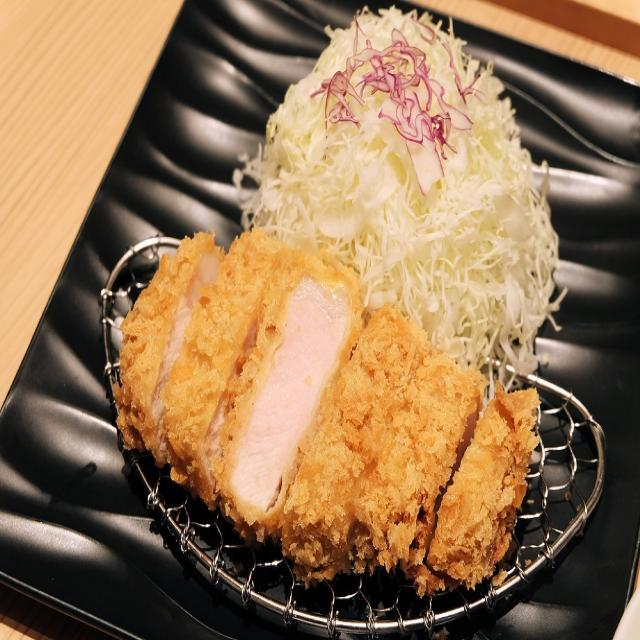cac loai rau cu: (249, 9, 568, 347)
thit heo: (118, 231, 535, 599)
thit heo chien xu tonkatsu: (119, 0, 592, 598)
